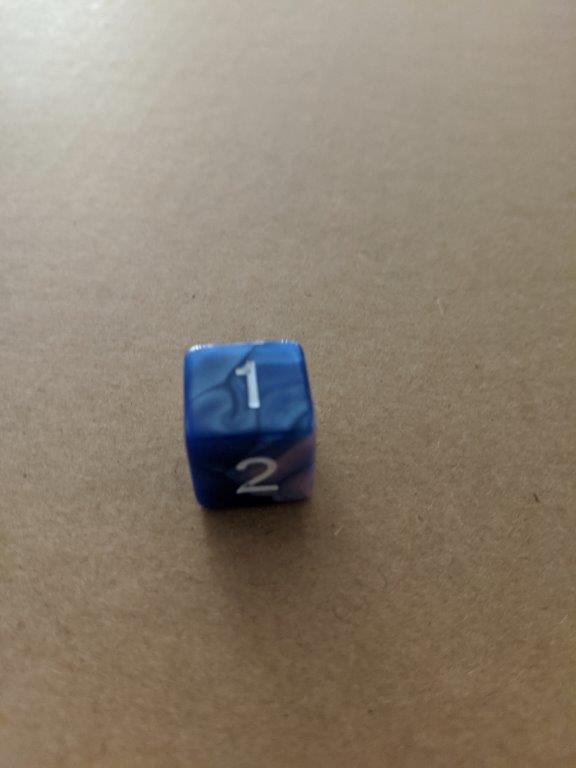d6-1: (179, 339, 319, 507)
